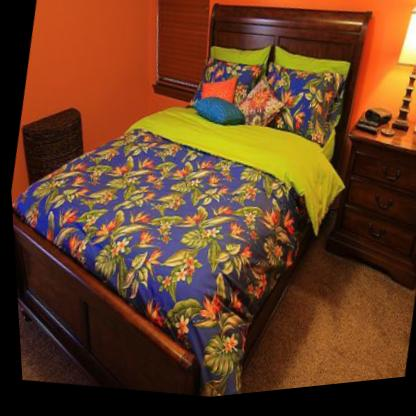Bed: (0, 0, 390, 416)
Nightstand: (310, 95, 416, 304)
